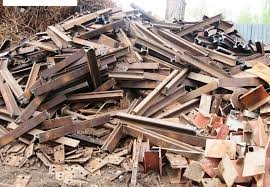metal: (35, 109, 116, 151), (111, 107, 200, 142), (1, 106, 49, 153), (166, 9, 226, 40), (155, 25, 210, 58), (82, 47, 112, 101), (137, 143, 169, 183), (160, 59, 192, 99), (58, 87, 128, 105), (235, 81, 270, 112), (44, 21, 74, 52), (112, 57, 164, 74), (1, 81, 24, 119), (106, 67, 148, 81), (50, 142, 68, 168)
